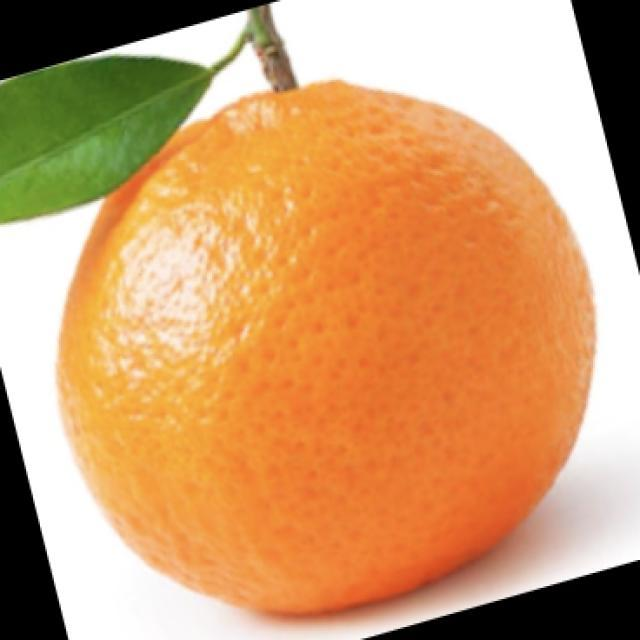matang: (58, 80, 594, 614)
